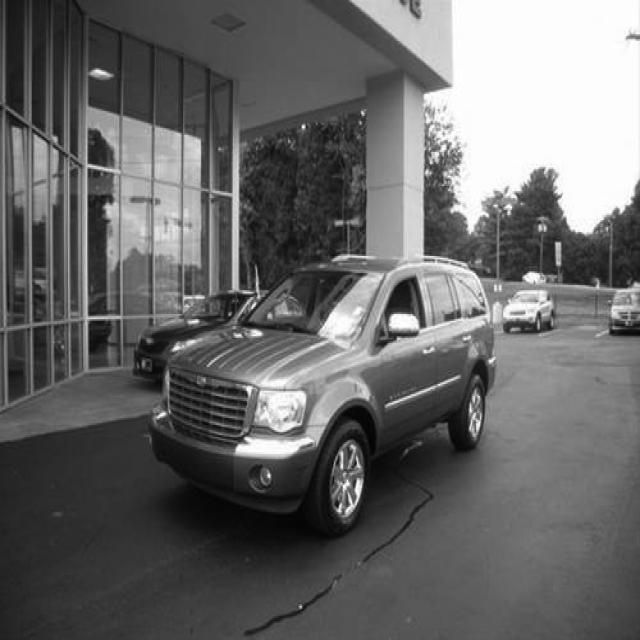car: (147, 251, 497, 536), (502, 288, 554, 333), (606, 286, 638, 334)
